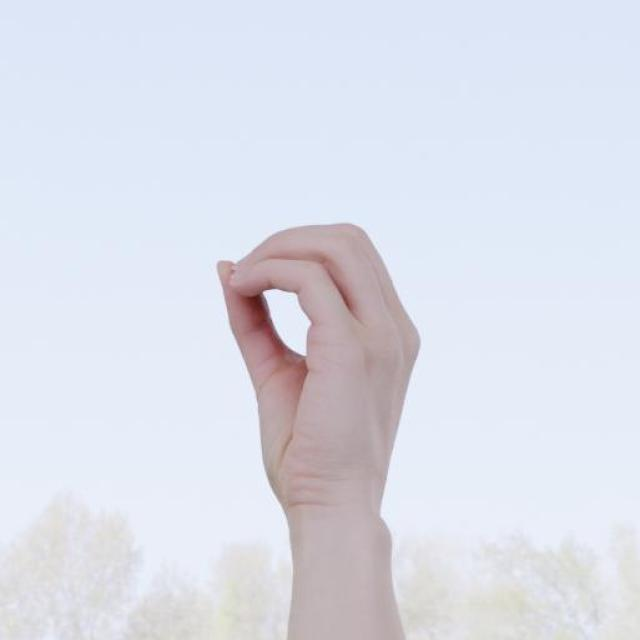O: (215, 218, 424, 534)
